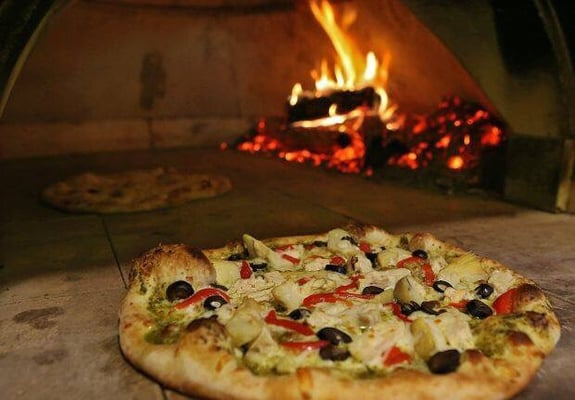sandwich: (113, 225, 569, 396), (38, 164, 234, 215)
